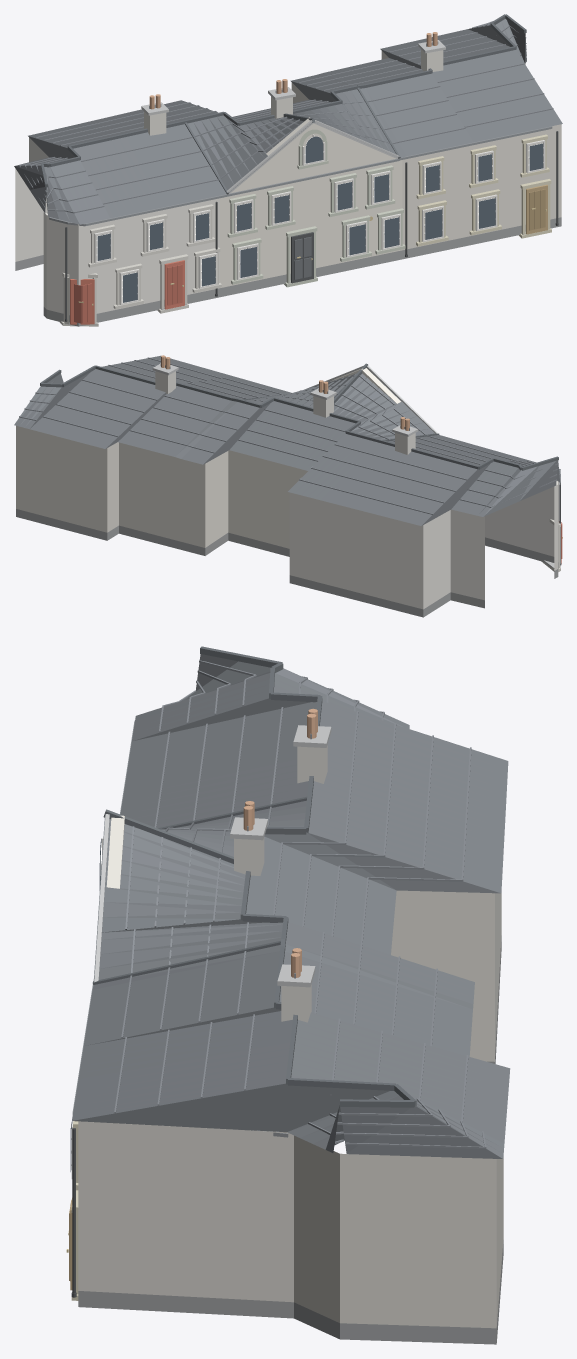
The picture shows the model from 3 angles, top to bottom: view 1: azimuth 30°, elevation 25°; view 2: azimuth 150°, elevation 25°; view 3: azimuth 270°, elevation 25°; orthographic projection. The views are drawn at different scales.
Parts seen in each view (by area): view 1: slate, harl_cream, harl, harl_grey, slate_lt, frame, dress_sage, plinth, dress_cream, slate_dk, dress_buff, lead (+22 smaller); view 2: slate, harl, harl_grey, harl_cream, slate_lt, plinth, slate_dk, chim_render, stone_band, pot; view 3: slate, harl_grey, harl_cream, slate_lt, slate_dk, plinth, chim_render, stone_band, pot.
Boxes of the visible parts, <box> form: slate: <box>14,19,562,224</box>; harl_cream: <box>220,82,402,287</box>; harl: <box>15,137,219,315</box>; harl_grey: <box>381,51,561,250</box>; slate_lt: <box>19,21,553,213</box>; frame: <box>94,134,545,304</box>; dress_sage: <box>227,129,405,287</box>; plinth: <box>15,217,561,326</box>; dress_cream: <box>59,204,221,326</box>; slate_dk: <box>41,14,526,194</box>; dress_buff: <box>416,134,551,246</box>; lead: <box>49,41,552,226</box>; slate: <box>14,355,560,525</box>; harl: <box>289,481,558,609</box>; harl_grey: <box>16,425,205,547</box>; harl_cream: <box>205,368,400,548</box>; slate_lt: <box>19,357,559,514</box>; plinth: <box>16,509,558,617</box>; slate_dk: <box>40,363,558,470</box>; chim_render: <box>155,371,415,454</box>; stone_band: <box>152,363,554,568</box>; pot: <box>161,355,409,430</box>; slate: <box>72,654,510,1158</box>; harl_grey: <box>78,1121,503,1328</box>; harl_cream: <box>106,815,494,1061</box>; slate_lt: <box>114,660,486,1148</box>; slate_dk: <box>92,646,416,1107</box>; plinth: <box>78,935,503,1344</box>; chim_render: <box>234,745,327,1022</box>; stone_band: <box>94,725,331,987</box>; pot: <box>243,708,317,977</box>.
Size of the model in its own units: 26.03 by 8.02 by 10.65.
